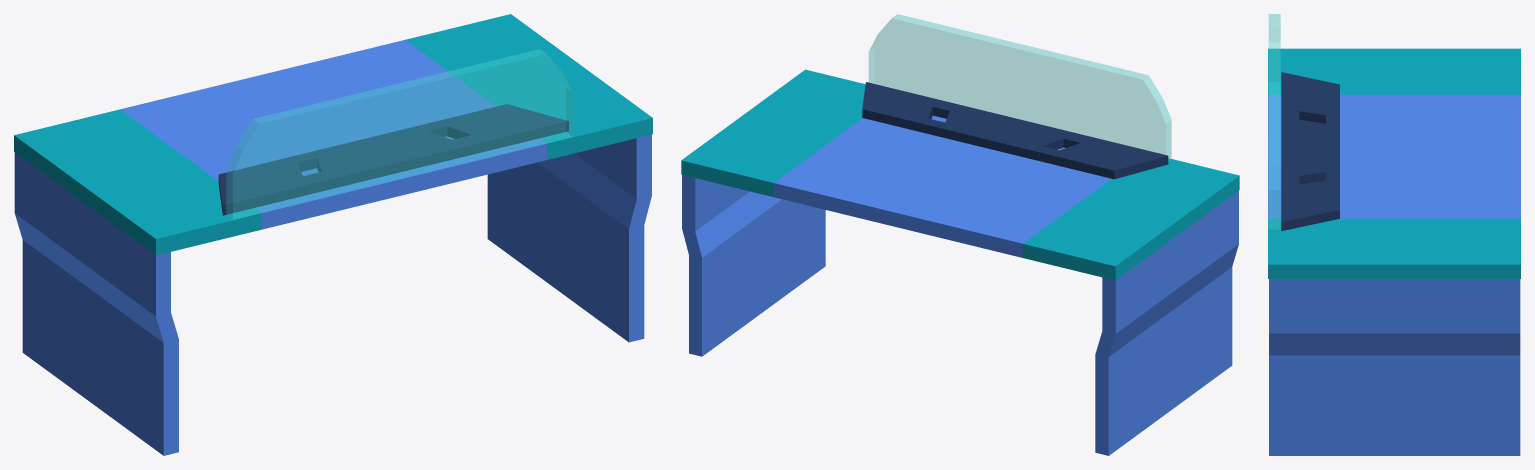
Rendered from table_tier17.fbx.
3 views of the same model, side by side, from view 1: azimuth 30°, elevation 25°; view 2: azimuth 150°, elevation 25°; view 3: azimuth 270°, elevation 25° (orthographic). The views are drawn at different scales.
Visible parts, largest first — view 1: Cube.005, Cube.002, Cube.001, Cube, Cube.008; view 2: Cube.005, Cube.001, Cube.002, Cube, Cube.008; view 3: Cube.005, Cube, Cube.008, Cube.002.
Part boxes in pixels (bbox=[...]): Cube.005: bbox=[14, 14, 652, 255]; Cube.002: bbox=[226, 49, 572, 219]; Cube.001: bbox=[14, 152, 178, 455]; Cube: bbox=[487, 134, 651, 342]; Cube.008: bbox=[218, 104, 568, 215]; Cube.005: bbox=[681, 69, 1239, 280]; Cube.001: bbox=[1095, 190, 1238, 455]; Cube.002: bbox=[869, 14, 1171, 160]; Cube: bbox=[682, 175, 825, 356]; Cube.008: bbox=[862, 82, 1168, 179]; Cube.005: bbox=[1268, 48, 1520, 278]; Cube: bbox=[1269, 279, 1520, 455]; Cube.008: bbox=[1281, 72, 1339, 230]; Cube.002: bbox=[1269, 14, 1280, 229].
Bounding box in the file's own units: 220 × 130 × 109.
